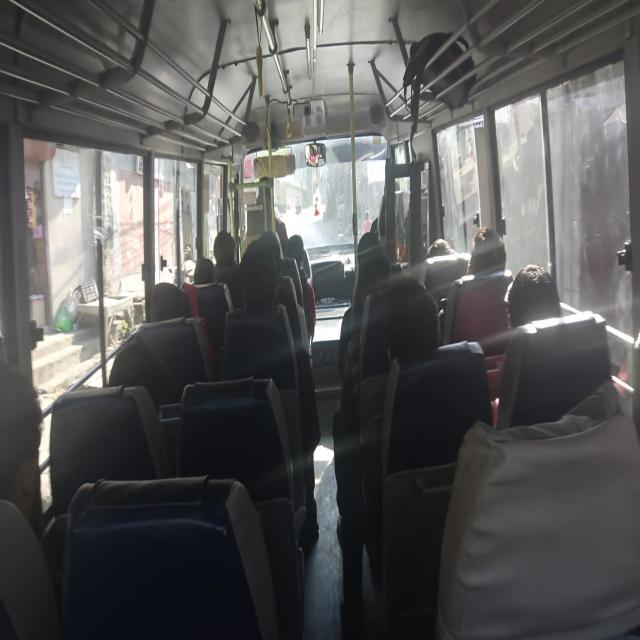person: (220, 233, 320, 545), (0, 363, 65, 638), (479, 263, 561, 403), (0, 364, 45, 535), (505, 262, 561, 329), (286, 234, 316, 346), (213, 229, 242, 309), (212, 230, 236, 270), (192, 256, 215, 285), (426, 238, 454, 258)
